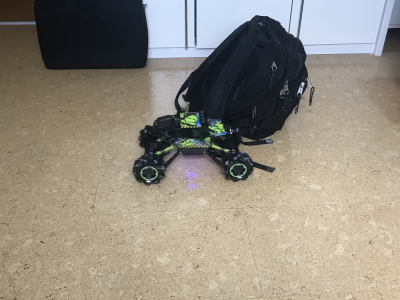remote control car: (131, 108, 255, 186)
